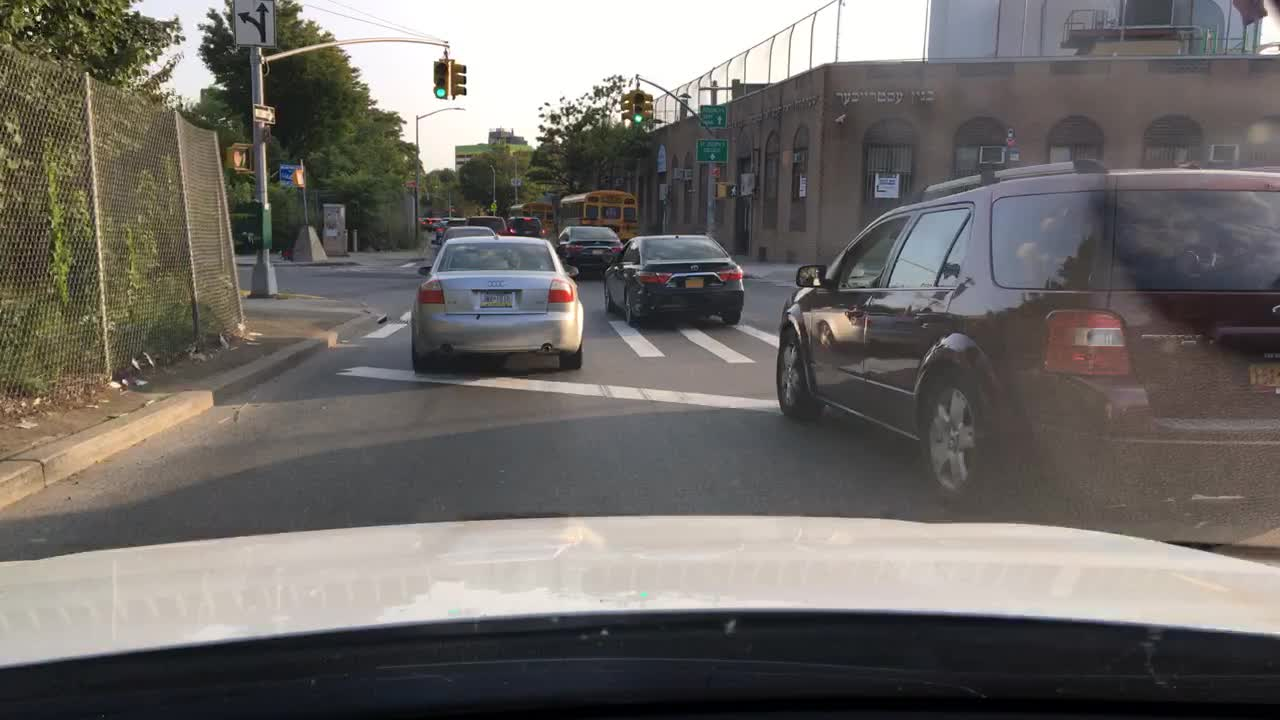bus: (557, 187, 639, 241), (509, 199, 556, 238)
car: (775, 156, 1277, 545), (409, 233, 587, 372), (601, 231, 745, 330), (552, 223, 623, 278), (428, 223, 496, 249), (504, 213, 544, 238), (466, 213, 508, 235), (442, 214, 469, 227), (418, 216, 434, 233), (436, 216, 451, 230), (429, 217, 442, 231)
traffic light: (223, 141, 258, 175), (447, 59, 468, 99), (276, 160, 305, 188), (431, 59, 450, 99), (711, 179, 738, 201)
traffic sign: (229, 1, 277, 49), (694, 137, 727, 163), (699, 103, 727, 128), (251, 101, 276, 125), (402, 177, 419, 187), (509, 177, 521, 187), (488, 201, 498, 211)
